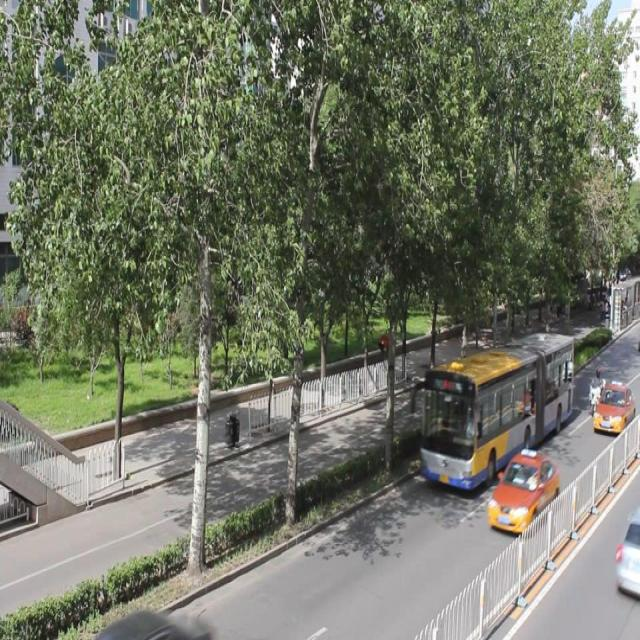car: (486, 450, 560, 531), (100, 602, 211, 640), (590, 382, 640, 432)
van: (420, 330, 571, 484)
